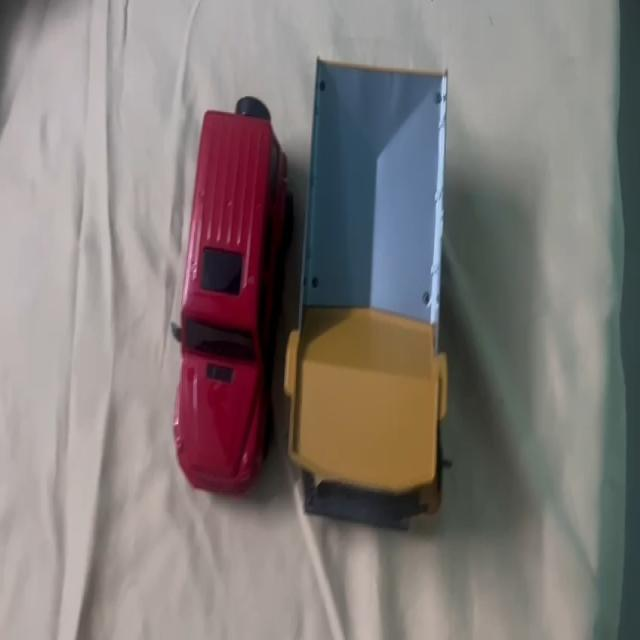dump_truck: (290, 52, 451, 520)
light_vehicle: (164, 97, 278, 486)
